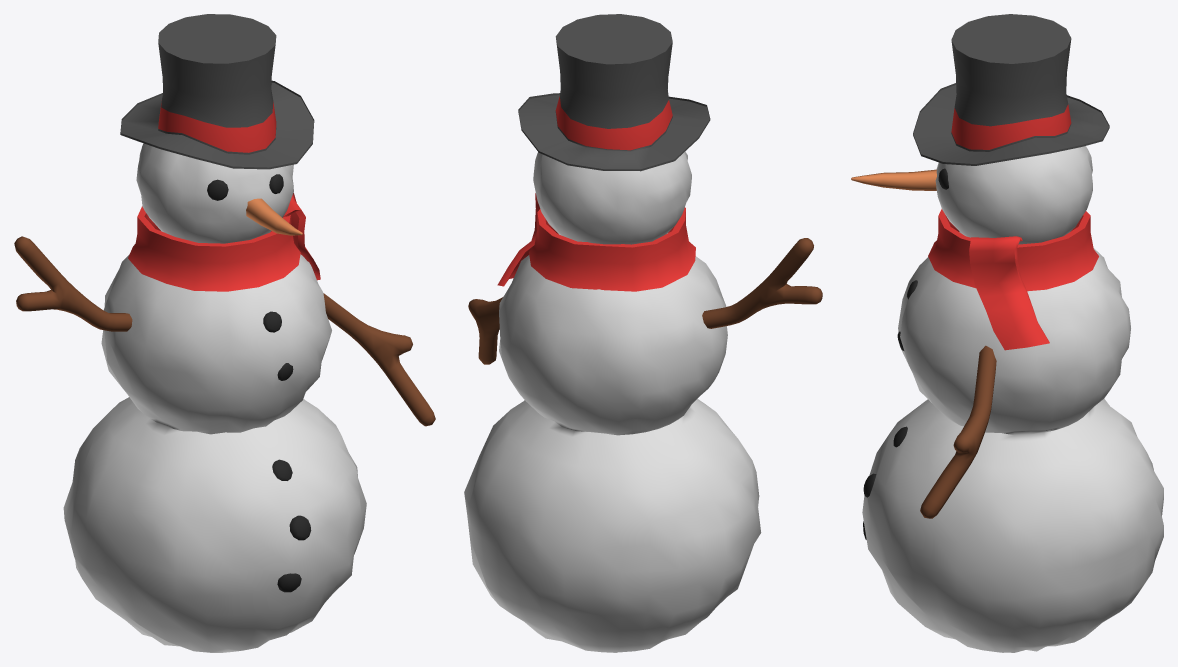
File: MOD_Snowman.fbx
The picture shows the model from 3 angles, left to right: view 1: azimuth 30°, elevation 25°; view 2: azimuth 150°, elevation 25°; view 3: azimuth 270°, elevation 25°; orthographic projection.
Parts seen in each view (by area): view 1: MOD_Snowman; view 2: MOD_Snowman; view 3: MOD_Snowman.
Part boxes in pixels (<box>): MOD_Snowman: <box>14,14,435,652</box>; MOD_Snowman: <box>464,14,822,652</box>; MOD_Snowman: <box>851,14,1163,652</box>.
Bounding box in the file's own units: 115 × 172 × 82.19.
